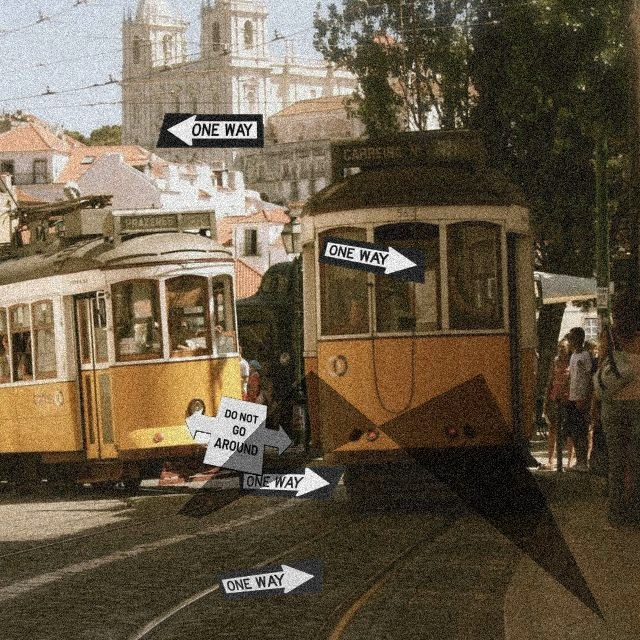DO_NOT_GO_AROUND: (184, 395, 293, 476)
ONE_WAY_ left: (155, 113, 264, 148)
ONE_WAY_ right: (317, 235, 426, 284), (214, 556, 323, 600), (238, 465, 347, 500)
